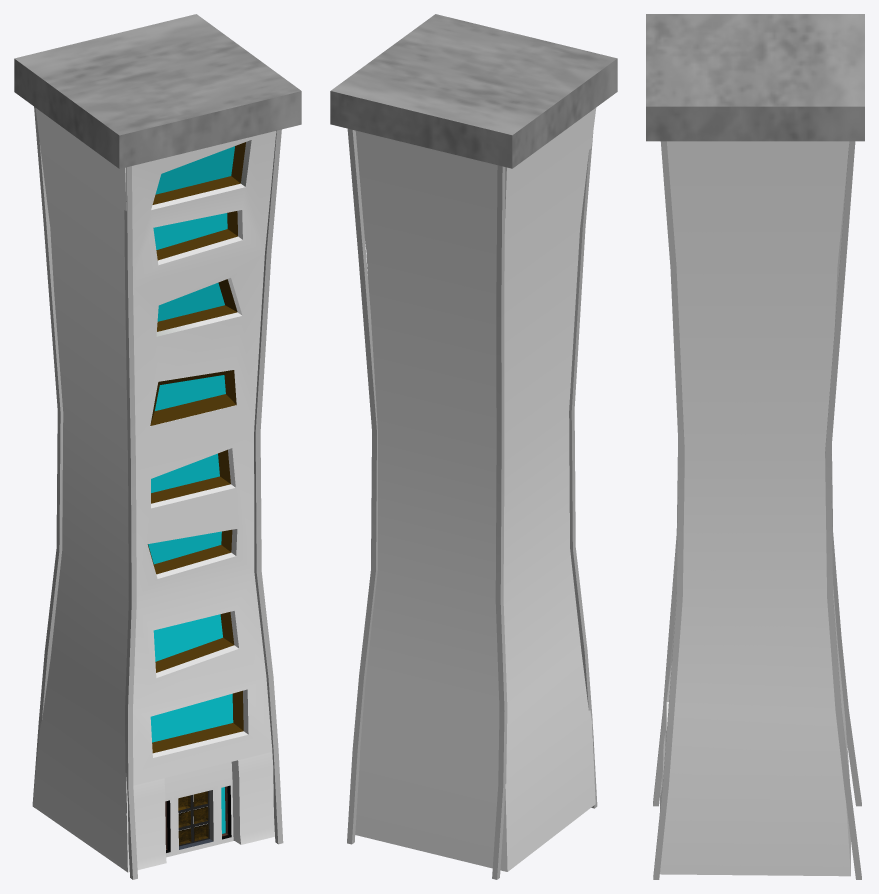
The model's file is PredioAltoFino-BrancoLOD0.fbx.
3 views of the same model, side by side, from view 1: azimuth 30°, elevation 25°; view 2: azimuth 150°, elevation 25°; view 3: azimuth 270°, elevation 25° (orthographic). The views are drawn at different scales.
Parts seen in each view (by area): view 1: PredioAltoFinoLOD0; view 2: PredioAltoFinoLOD0; view 3: PredioAltoFinoLOD0.
Boxes of the visible parts, bbox=[...] form: PredioAltoFinoLOD0: bbox=[14, 14, 301, 879]; PredioAltoFinoLOD0: bbox=[330, 14, 617, 879]; PredioAltoFinoLOD0: bbox=[646, 14, 864, 879].
Size of the model in its own units: 635 by 2498 by 635.
